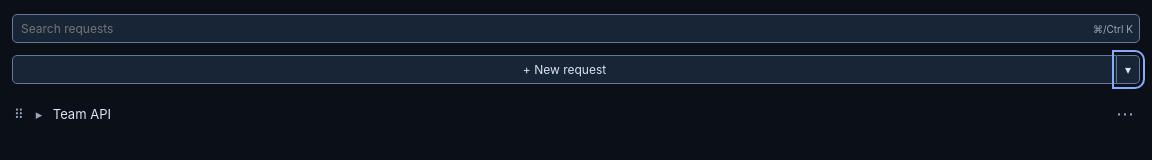
keeps secondary creation and entry actions behind their contextual buttons
The width and height of the screenshot is (1152, 160).
expect the button "+ New request" is shown: met, box x1=12 y1=55 x2=1117 y2=84
Click the button named "More creation options": (1128, 70) x1=1117 y1=55 x2=1140 y2=84
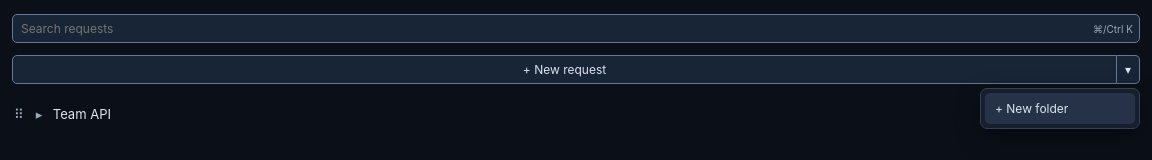
Press Escape in the menu item "+ New folder", box x1=985 y1=93 x2=1135 y2=124
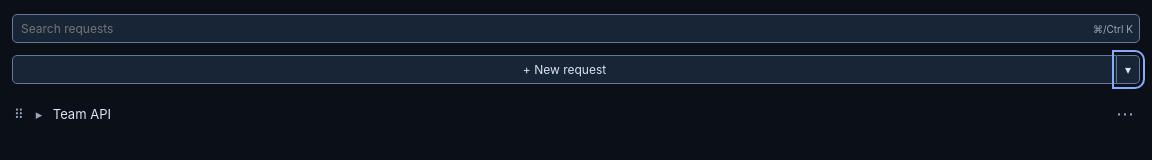
expect the menu is gone: met
